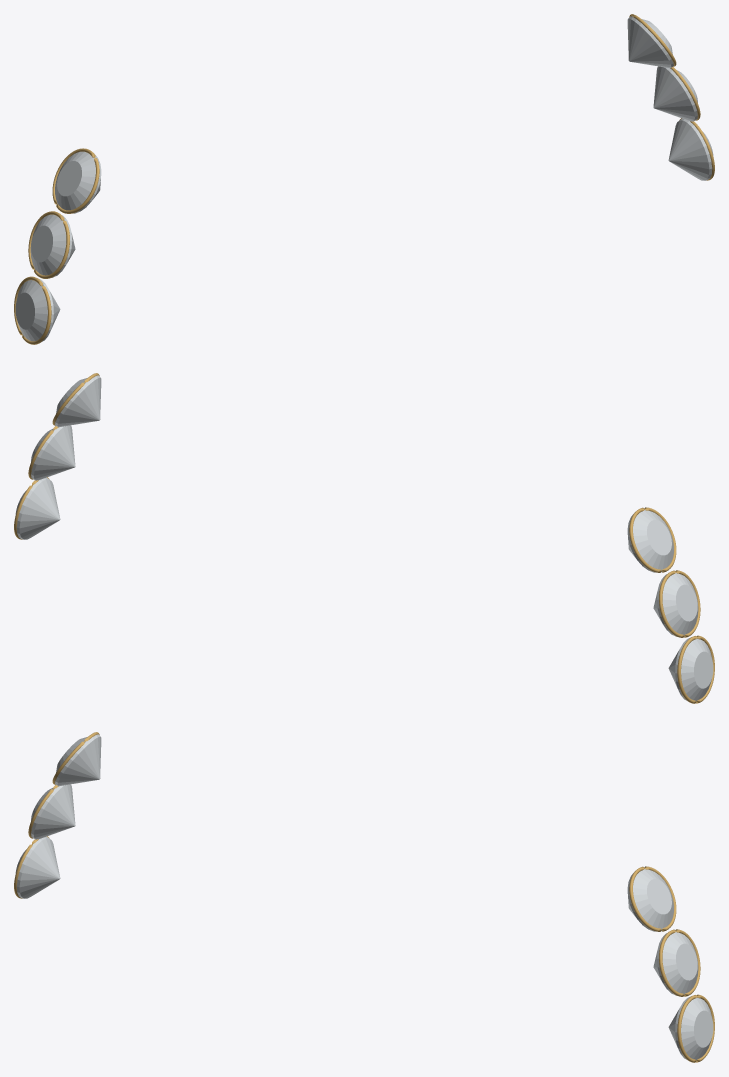
Rendered from accents-flush-accents-wide.glb.
3 renders of one model, top to bottom at view 1: azimuth 30°, elevation 25°; view 2: azimuth 150°, elevation 25°; view 3: azimuth 330°, elevation 25°, orthographic.
Visible parts, largest first — view 1: Gem, Gem.001, Gem.002, Gem.005, Gem.004, Gem.003, Burnished rim, Burnished rim.001, Burnished rim.002; view 2: Gem, Gem.001, Gem.002, Gem.005, Gem.004, Gem.003, Burnished rim, Burnished rim.001, Burnished rim.002; view 3: Gem.003, Gem.004, Gem.005, Gem.002, Gem.001, Gem, Burnished rim.003, Burnished rim.004, Burnished rim.005.
Boxes of the visible parts, x1=… form: Gem: x1=55, y1=151, x2=101, y2=213; Gem.001: x1=30, y1=214, x2=75, y2=277; Gem.002: x1=15, y1=278, x2=60, y2=342; Gem.005: x1=668, y1=118, x2=713, y2=180; Gem.004: x1=653, y1=66, x2=697, y2=121; Gem.003: x1=627, y1=16, x2=673, y2=68; Burnished rim: x1=52, y1=148, x2=99, y2=213; Burnished rim.001: x1=28, y1=211, x2=69, y2=278; Burnished rim.002: x1=14, y1=276, x2=51, y2=344; Gem: x1=627, y1=510, x2=673, y2=572; Gem.001: x1=653, y1=573, x2=698, y2=636; Gem.002: x1=668, y1=637, x2=713, y2=701; Gem.005: x1=15, y1=477, x2=60, y2=539; Gem.004: x1=31, y1=425, x2=75, y2=480; Gem.003: x1=55, y1=375, x2=101, y2=427; Burnished rim: x1=629, y1=507, x2=676, y2=572; Burnished rim.001: x1=659, y1=570, x2=700, y2=637; Burnished rim.002: x1=677, y1=635, x2=714, y2=703; Gem.003: x1=627, y1=869, x2=673, y2=931; Gem.004: x1=653, y1=932, x2=698, y2=995; Gem.005: x1=668, y1=996, x2=713, y2=1060; Gem.002: x1=15, y1=836, x2=60, y2=898; Gem.001: x1=31, y1=784, x2=75, y2=839; Gem: x1=55, y1=734, x2=101, y2=786; Burnished rim.003: x1=629, y1=866, x2=676, y2=931; Burnished rim.004: x1=659, y1=929, x2=700, y2=996; Burnished rim.005: x1=677, y1=994, x2=714, y2=1062.
Size of the model in its own units: 19.52 by 4.8 by 1.69.
